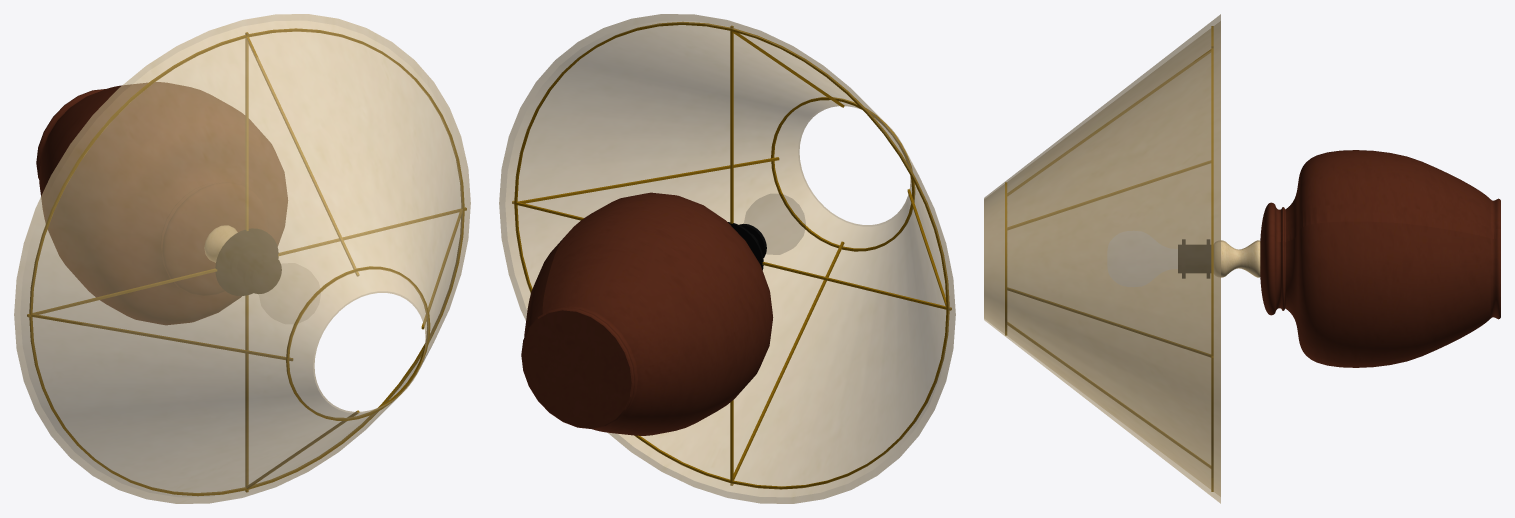
Rendered from lmp005.obj.
The picture shows the model from 3 angles, left to right: view 1: azimuth 30°, elevation 25°; view 2: azimuth 150°, elevation 25°; view 3: azimuth 270°, elevation 25°; orthographic projection. The views are drawn at different scales.
Parts seen in each view (by area): view 1: Circle01, Line01, Donut01, Circle02, Donut02, Rectangle6, for_lamp_0, Rectangle2, Rectangle7, Rectangle3, Rectangle0, Line02 (+2 smaller); view 2: Circle01, Line01, Donut01, lamp, Donut02, Rectangle5, Rectangle1, Rectangle7, Rectangle0; view 3: Circle01, Line01, Line02, Donut01, Rectangle6, Rectangle1, for_lamp_0, Rectangle5, Rectangle2.
Part boxes in pixels (x1,y1,x2,y2): Circle01: (14, 14, 470, 503); Line01: (36, 82, 287, 324); Donut01: (29, 28, 464, 495); Circle02: (215, 228, 278, 295); Donut02: (286, 266, 430, 420); Rectangle6: (246, 36, 359, 276); for_lamp_0: (237, 251, 278, 289); Rectangle2: (31, 314, 292, 360); Rectangle7: (245, 32, 248, 230); Rectangle3: (245, 295, 248, 492); Rectangle0: (27, 268, 216, 317); Line02: (204, 225, 237, 262); Circle01: (499, 14, 955, 503); Line01: (521, 192, 773, 435); Donut01: (514, 22, 949, 489); lamp: (744, 194, 805, 254); Donut02: (771, 97, 915, 251); Rectangle5: (518, 157, 779, 203); Rectangle1: (733, 241, 844, 480); Rectangle7: (730, 25, 733, 223); Rectangle0: (762, 262, 951, 310); Circle01: (984, 14, 1220, 503); Line01: (1260, 150, 1500, 367); Line02: (1214, 240, 1260, 277); Donut01: (1211, 26, 1213, 491); Rectangle6: (1007, 49, 1211, 195); Rectangle1: (1007, 322, 1210, 468); for_lamp_0: (1178, 245, 1210, 272); Rectangle5: (1007, 287, 1210, 357); Rectangle2: (1007, 160, 1210, 229).
Size of the model in its own units: 342 by 342 by 361.
6 materials, 3 textured.
